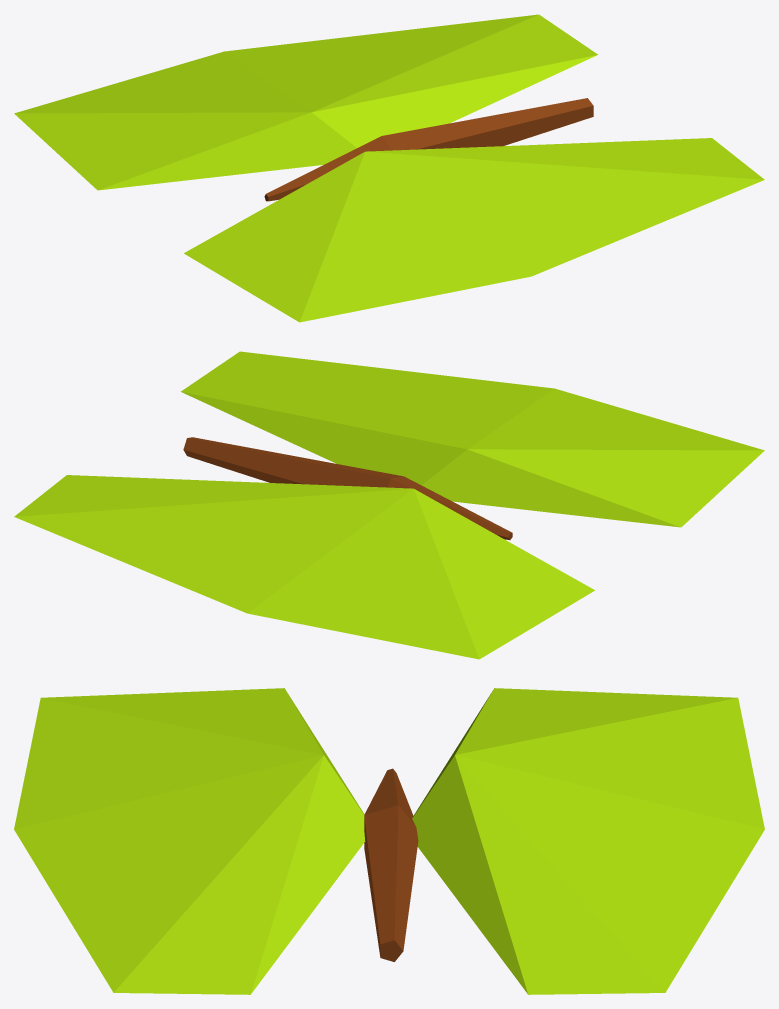
Rendered from butterfly00-1480513660789.fbx.
3 views of the same model, one above another, from view 1: azimuth 30°, elevation 25°; view 2: azimuth 150°, elevation 25°; view 3: azimuth 270°, elevation 25° (orthographic). The views are drawn at different scales.
Parts seen in each view (by area): view 1: butterfly00; view 2: butterfly00; view 3: butterfly00.
Part boxes in pixels (x1,y1,x2,y2): butterfly00: (14, 14, 764, 322); butterfly00: (14, 351, 764, 659); butterfly00: (14, 688, 764, 994).
Bounding box in the file's own units: 142 × 16.21 × 147.
